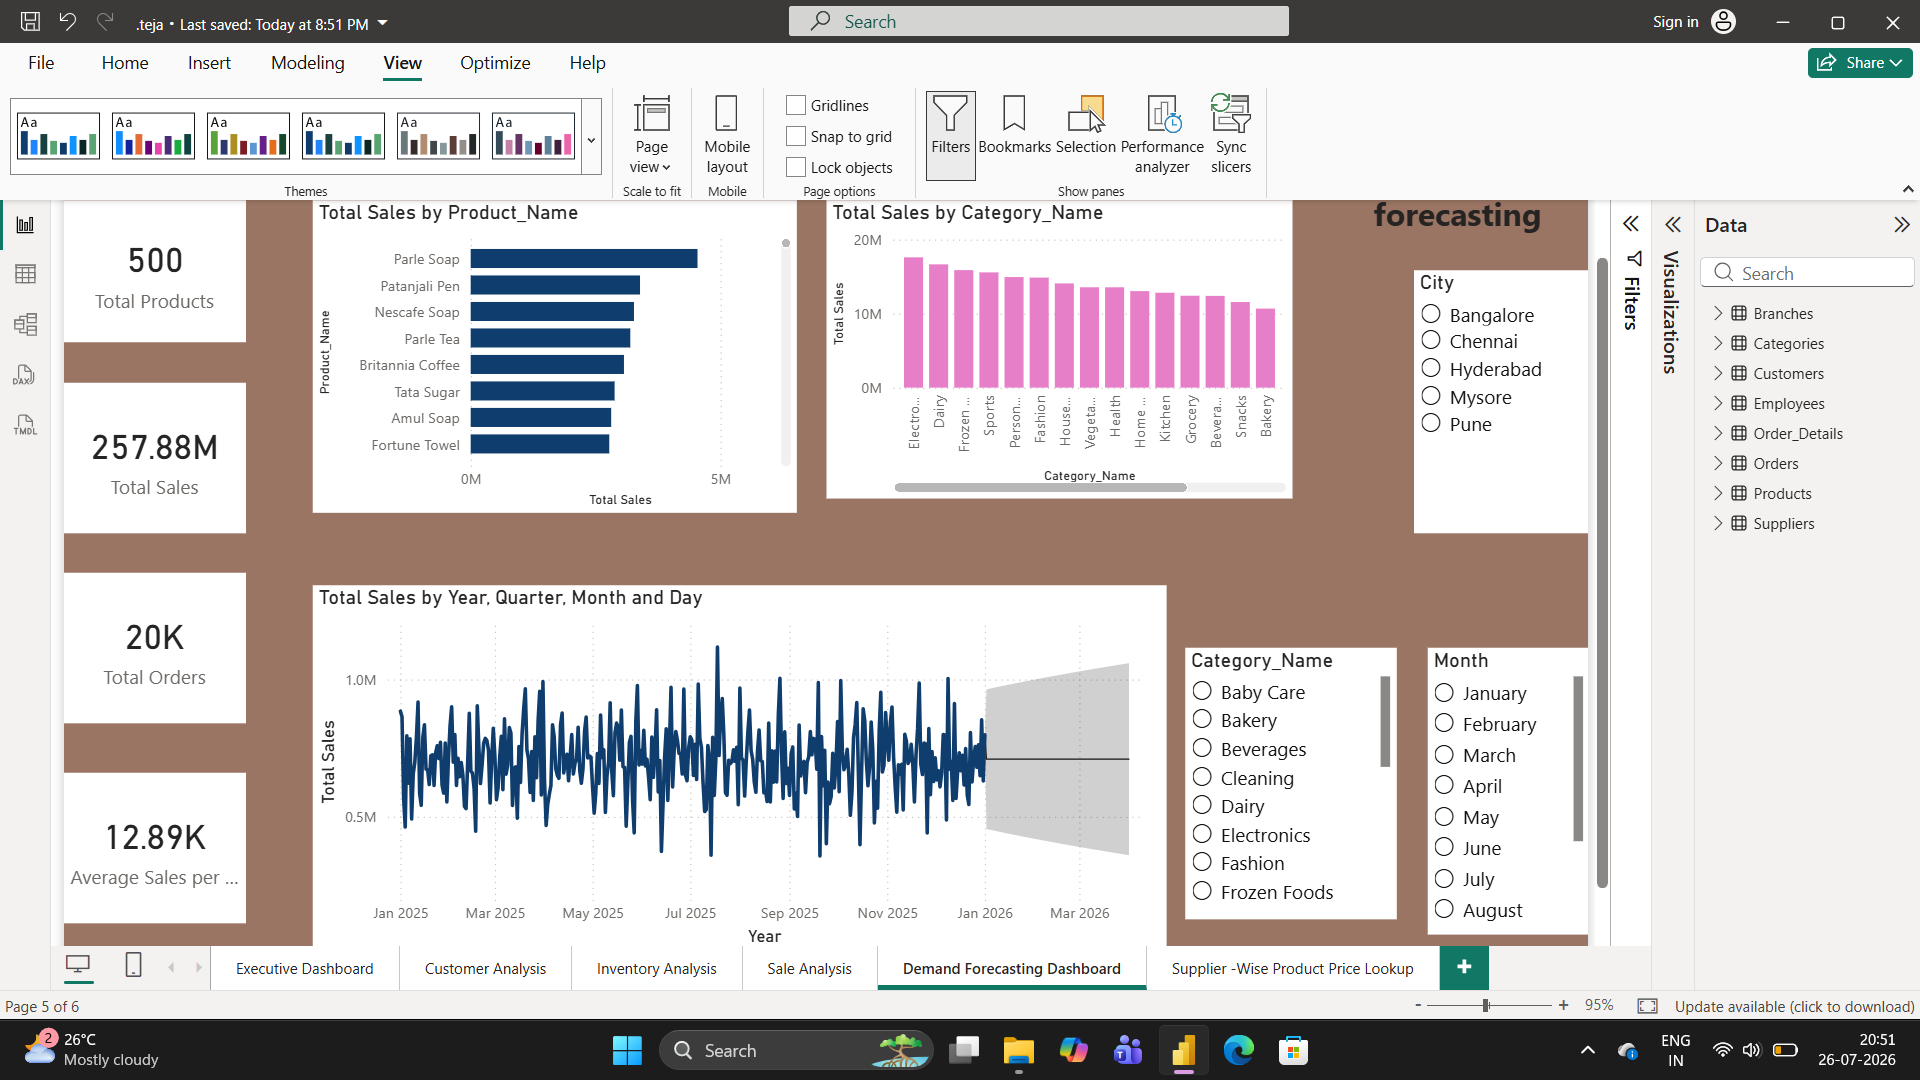

What the dashboard file says about the page in this screenshot:
{"tool":"powerbi","page":{"name":"Demand Forecasting Dashboard","canvas":[1280,720],"ordinal":4},"visuals":[{"type":"card","fields":{"Values":["Products.Total Products"]},"box":[0,47.7,152.6,119.2],"z":0},{"type":"card","fields":{"Values":["Order_Details.Total Sales"]},"box":[0,200.3,152.6,126.4],"z":1000},{"type":"card","fields":{"Values":["Order_Details.Total Orders"]},"box":[0,360,152.6,126.4],"z":2000},{"type":"card","fields":{"Values":["Orders.Average Sales per Order"]},"box":[0,528.1,152.6,126.4],"z":3000},{"type":"columnChart","fields":{"Category":["Categories.Category_Name"],"Y":["Order_Details.Total Sales"]},"box":[640.1,47.7,391,250.3],"z":4000},{"type":"barChart","fields":{"Category":["Products.Product_Name"],"Y":["Order_Details.Total Sales"]},"box":[208.6,47.7,406.5,262.2],"z":5000},{"type":"listSlicer","fields":{"Values":["Orders.Month"]},"box":[1144.3,423.2,135.9,240.8],"z":6000},{"type":"listSlicer","fields":{"Values":["Categories.Category_Name"]},"box":[941.7,423.2,177.6,227.7],"z":7000},{"type":"listSlicer","fields":{"Values":["Branches.City"]},"box":[1133.6,106.1,146.6,220.5],"z":8000},{"type":"textbox","box":[1070.4,0,199.1,95.4],"z":9000},{"type":"lineChart","fields":{"Y":["Order_Details.Total Sales"],"Category":["Orders.Order_Date.Variation.Date Hierarchy.Year","Orders.Order_Date.Variation.Date Hierarchy.Quarter","Orders.Order_Date.Variation.Date Hierarchy.Month","Orders.Order_Date.Variation.Date Hierarchy.Day"]},"box":[208.6,370.7,716.4,307.5],"z":10000}]}

Visuals, with their boxes on the page's 1280x720 design canvas (x1, y1, x2, y2). These are canvas units, not pixel positions in the 1920x1080 screenshot, which may show the page scaled, cropped or inside an application window:
card - Products.Total Products: {"left": 0, "top": 48, "right": 153, "bottom": 167}
card - Order_Details.Total Sales: {"left": 0, "top": 200, "right": 153, "bottom": 327}
card - Order_Details.Total Orders: {"left": 0, "top": 360, "right": 153, "bottom": 486}
card - Orders.Average Sales per Order: {"left": 0, "top": 528, "right": 153, "bottom": 654}
columnChart - Categories.Category_Name x Order_Details.Total Sales: {"left": 640, "top": 48, "right": 1031, "bottom": 298}
barChart - Products.Product_Name x Order_Details.Total Sales: {"left": 209, "top": 48, "right": 615, "bottom": 310}
listSlicer - Orders.Month: {"left": 1144, "top": 423, "right": 1280, "bottom": 664}
listSlicer - Categories.Category_Name: {"left": 942, "top": 423, "right": 1119, "bottom": 651}
listSlicer - Branches.City: {"left": 1134, "top": 106, "right": 1280, "bottom": 327}
textbox: {"left": 1070, "top": 0, "right": 1270, "bottom": 95}
lineChart - Order_Details.Total Sales x Orders.Order_Date.Variation.Date Hierarchy.Year: {"left": 209, "top": 371, "right": 925, "bottom": 678}
